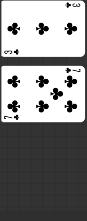7C: (64, 66, 82, 74)
